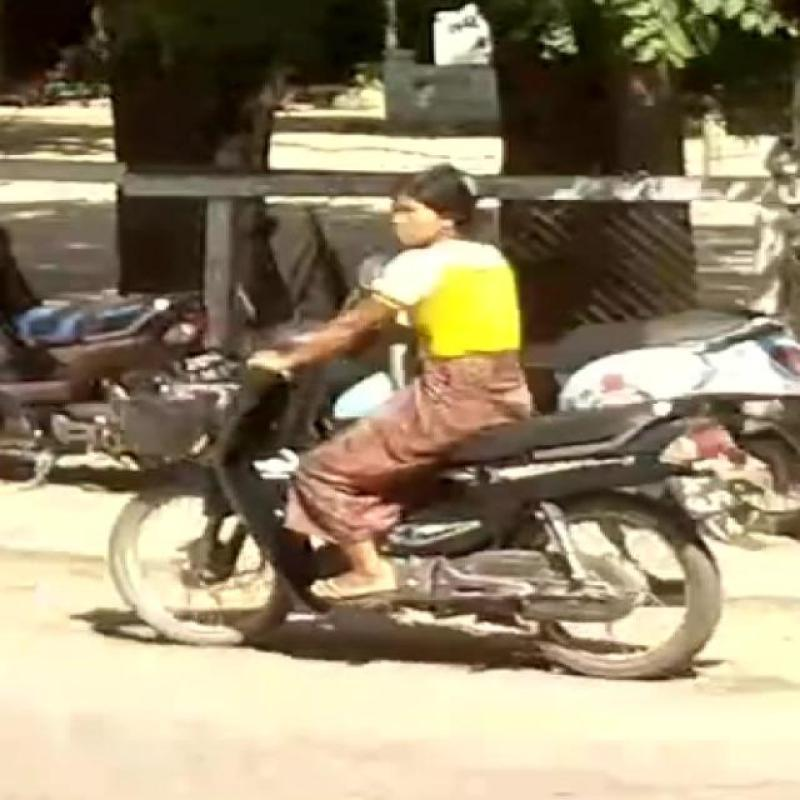nohelmet: (361, 157, 500, 252)
